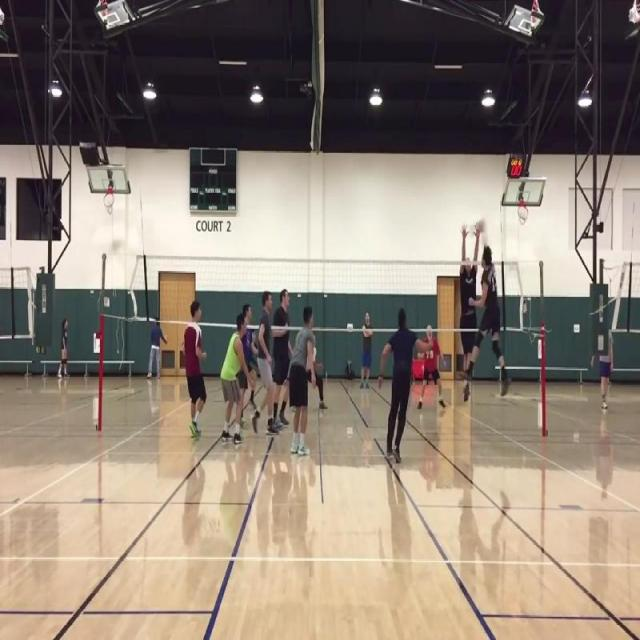volleyball: (476, 220, 484, 231)
